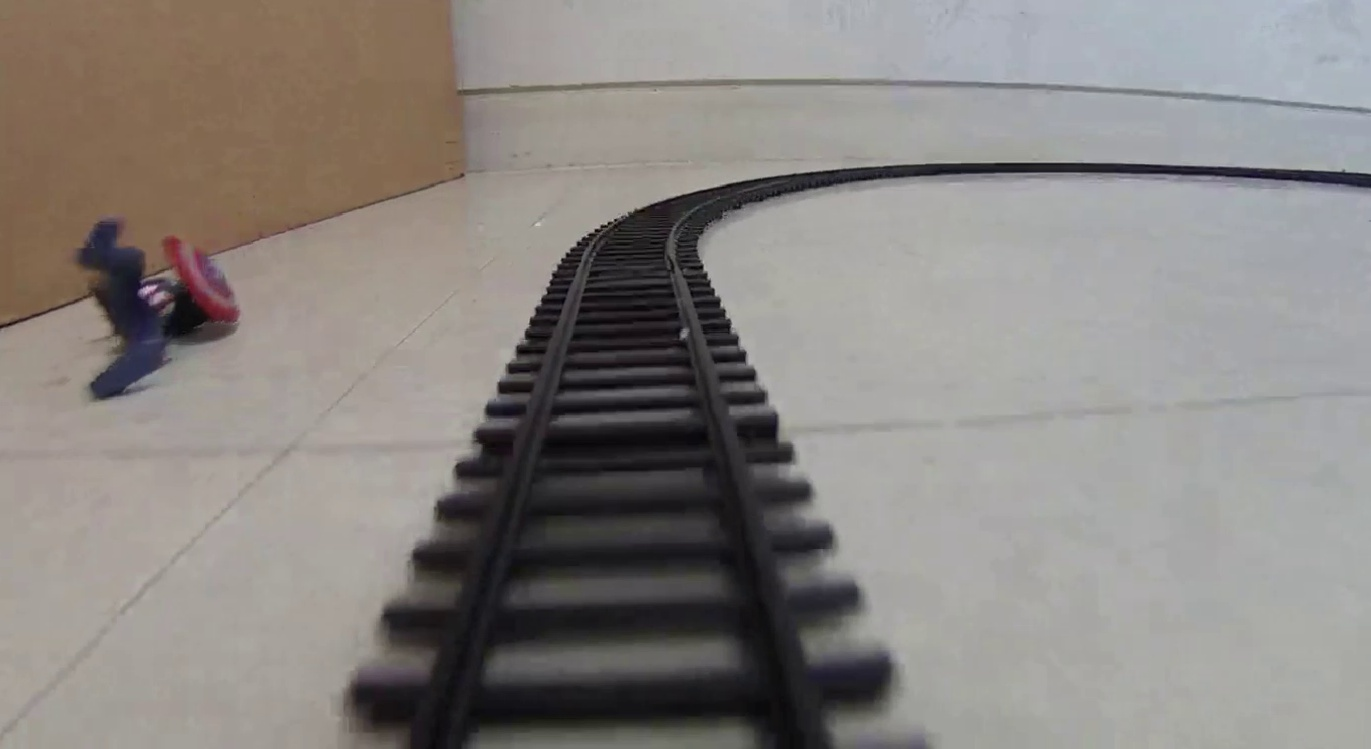people: (74, 215, 239, 401)
